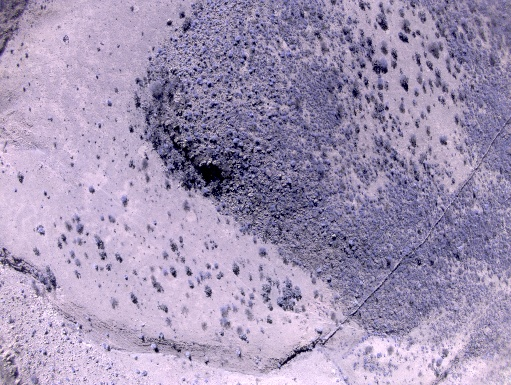agave: (225, 130, 238, 139), (233, 139, 244, 149), (210, 135, 219, 145), (347, 238, 354, 248), (308, 200, 316, 208), (185, 136, 193, 144), (196, 77, 203, 86), (248, 28, 255, 37), (192, 111, 200, 118), (270, 204, 277, 212), (203, 188, 209, 197), (192, 92, 199, 99), (234, 37, 241, 44), (182, 126, 189, 133), (134, 367, 140, 375), (289, 159, 295, 167), (239, 227, 247, 233), (194, 65, 200, 73), (235, 198, 244, 203), (271, 220, 277, 227), (254, 139, 261, 145), (255, 147, 262, 153), (238, 58, 244, 65), (254, 12, 261, 18), (155, 47, 162, 53), (244, 208, 252, 213), (249, 47, 257, 52), (191, 21, 199, 26), (199, 124, 207, 129), (324, 160, 330, 166), (159, 333, 164, 340), (211, 64, 218, 69), (285, 52, 292, 57), (274, 38, 281, 43), (207, 82, 212, 88), (215, 206, 220, 212), (221, 202, 226, 208), (191, 35, 197, 40), (248, 112, 253, 117), (267, 149, 272, 154), (228, 53, 233, 58), (41, 351, 47, 355), (249, 68, 253, 74), (252, 38, 256, 44), (143, 371, 147, 376), (48, 322, 52, 327), (269, 81, 273, 86), (207, 115, 210, 120), (221, 35, 226, 38), (87, 317, 90, 321)
